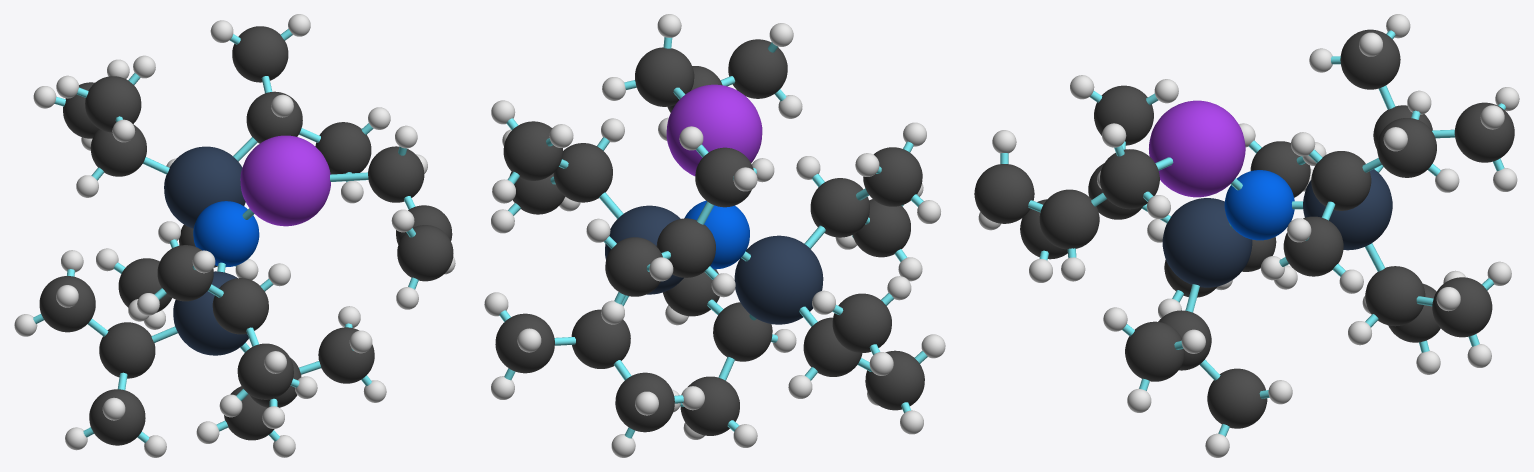
File: molecule.glb
3 views of the same model, side by side, from view 1: azimuth 30°, elevation 25°; view 2: azimuth 150°, elevation 25°; view 3: azimuth 270°, elevation 25° (orthographic). The views are drawn at different scales.
Visible parts, largest first — view 1: Mg_1, Si_2, Sticks, N_1, Si_1, C_1, C_21, C_17, C_7, C_19, C_15, C_18 (+12 smaller); view 2: Si_1, Mg_1, Sticks, C_21, C_2, C_7, C_19, C_16, C_17, C_13, C_10, C_8 (+40 smaller); view 3: Mg_1, Si_1, Sticks, N_1, Si_2, C_20, C_21, C_5, C_10, C_16, C_6, C_19 (+14 smaller).
Part boxes in pixels (<box>): Mg_1: <box>240,135,330,226</box>; Si_2: <box>164,146,245,228</box>; Sticks: <box>33,29,418,442</box>; N_1: <box>193,201,259,266</box>; Si_1: <box>173,271,248,355</box>; C_1: <box>99,322,155,378</box>; C_21: <box>397,225,453,281</box>; C_17: <box>232,26,288,82</box>; C_7: <box>212,278,268,334</box>; C_19: <box>368,146,424,202</box>; C_15: <box>85,76,141,132</box>; C_18: <box>315,122,371,174</box>; Si_1: <box>734,235,823,324</box>; Mg_1: <box>666,84,762,176</box>; Sticks: <box>499,37,927,438</box>; C_21: <box>728,39,787,98</box>; C_2: <box>832,293,891,352</box>; C_7: <box>810,178,869,237</box>; C_19: <box>635,47,694,106</box>; C_16: <box>553,143,612,202</box>; C_17: <box>503,121,562,180</box>; C_13: <box>656,218,715,277</box>; C_10: <box>571,309,630,368</box>; C_8: <box>863,147,922,206</box>; Mg_1: <box>1149,100,1245,197</box>; Si_1: <box>1162,198,1252,287</box>; Sticks: <box>1000,30,1505,436</box>; N_1: <box>1224,170,1294,240</box>; Si_2: <box>1303,169,1392,250</box>; C_20: <box>1039,189,1099,249</box>; C_21: <box>974,164,1034,223</box>; C_5: <box>1207,368,1267,428</box>; C_10: <box>1365,266,1425,326</box>; C_16: <box>1311,151,1371,210</box>; C_6: <box>1125,321,1184,381</box>; C_19: <box>1100,149,1159,209</box>.
Bounding box in the file's own units: 8.41 × 7.9 × 10.06.
